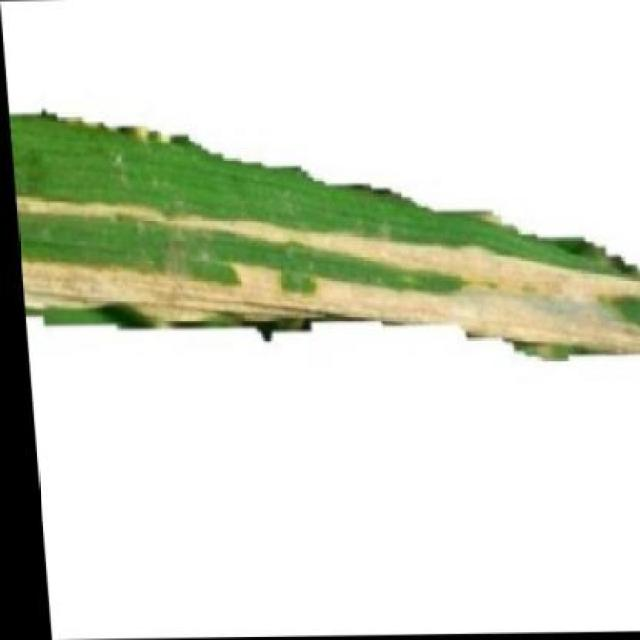Brown_Spot: (6, 100, 640, 375)
